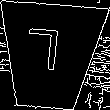L_S: (30, 30, 70, 82)
